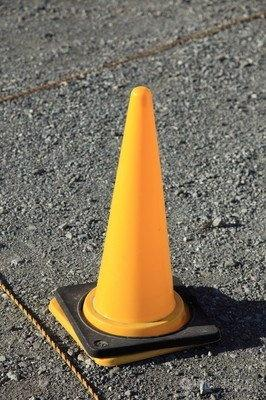cone_barrel: (81, 86, 185, 331)
